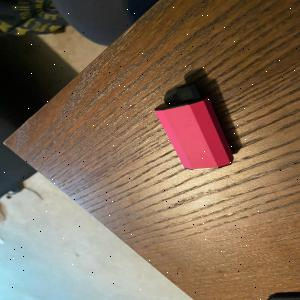Blume-E-Ciggirate: (152, 82, 240, 170)
